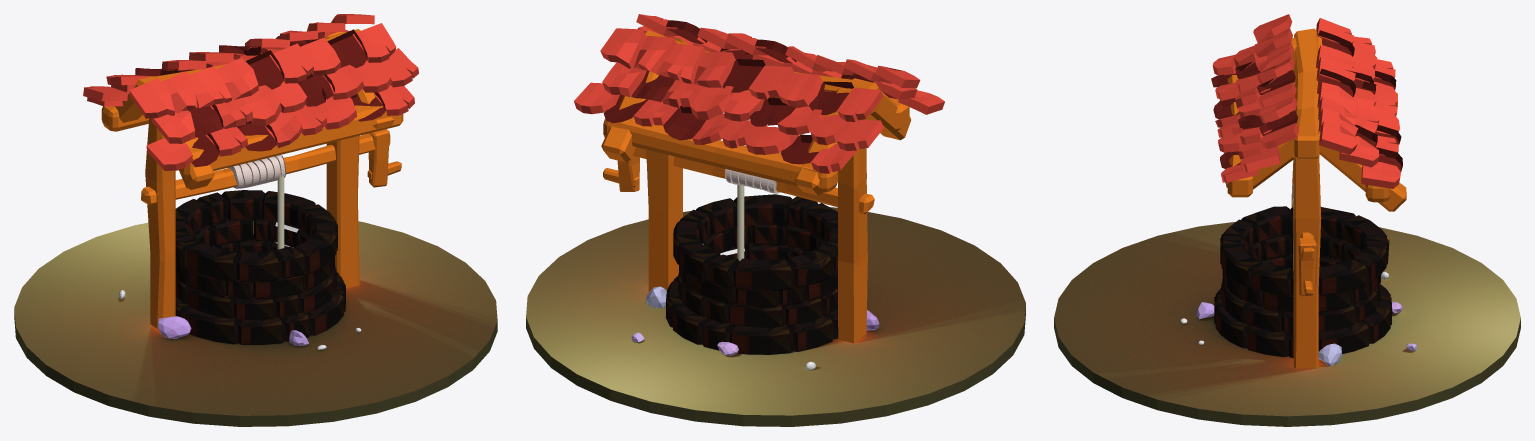
3 renders of one model, left to right at view 1: azimuth 30°, elevation 25°; view 2: azimuth 150°, elevation 25°; view 3: azimuth 270°, elevation 25°, orthographic. The views are drawn at different scales.
Visible parts, largest first — view 1: Cylinder.001, Plane.000, Cube.004, Cube.003, Cube.005, Plane.020, Cube, Cube.001, Cylinder, Icosphere, Cylinder.002; view 2: Cylinder.001, Plane.020, Cube.004, Cube.003, Plane.000, Cube, Cube.005, Cube.001, Cylinder, Cylinder.002; view 3: Cylinder.001, Cube.004, Plane.020, Plane.000, Cube.003, Cube, Cube.005, Cube.001.
Part boxes in pixels (bbox=[...]): Cylinder.001: bbox=[14, 221, 497, 426]; Plane.000: bbox=[129, 23, 418, 170]; Cube.004: bbox=[101, 29, 403, 330]; Cube.003: bbox=[175, 190, 337, 282]; Cube.005: bbox=[175, 218, 334, 299]; Plane.020: bbox=[83, 14, 374, 106]; Cube: bbox=[175, 272, 345, 344]; Cube.001: bbox=[175, 234, 336, 320]; Cylinder: bbox=[228, 155, 285, 188]; Icosphere: bbox=[157, 316, 191, 338]; Cylinder.002: bbox=[277, 169, 284, 249]; Cylinder.001: bbox=[526, 207, 1025, 426]; Plane.020: bbox=[574, 28, 883, 173]; Cube.004: bbox=[601, 30, 911, 343]; Cube.003: bbox=[673, 194, 837, 291]; Plane.000: bbox=[636, 14, 944, 114]; Cube: bbox=[666, 276, 838, 354]; Cube.005: bbox=[679, 224, 837, 307]; Cube.001: bbox=[678, 242, 837, 327]; Cylinder: bbox=[725, 169, 780, 193]; Cylinder.002: bbox=[737, 185, 744, 260]; Cylinder.001: bbox=[1054, 221, 1520, 426]; Cube.004: bbox=[1220, 28, 1406, 368]; Plane.020: bbox=[1316, 18, 1402, 188]; Plane.000: bbox=[1211, 14, 1299, 182]; Cube.003: bbox=[1220, 206, 1389, 296]; Cube: bbox=[1214, 284, 1391, 357]; Cube.005: bbox=[1222, 232, 1380, 313]; Cube.001: bbox=[1221, 253, 1380, 333].
Bounding box in the file's own units: 37.09 × 22.9 × 37.09.
Materials: 12 (3 with a texture image).
